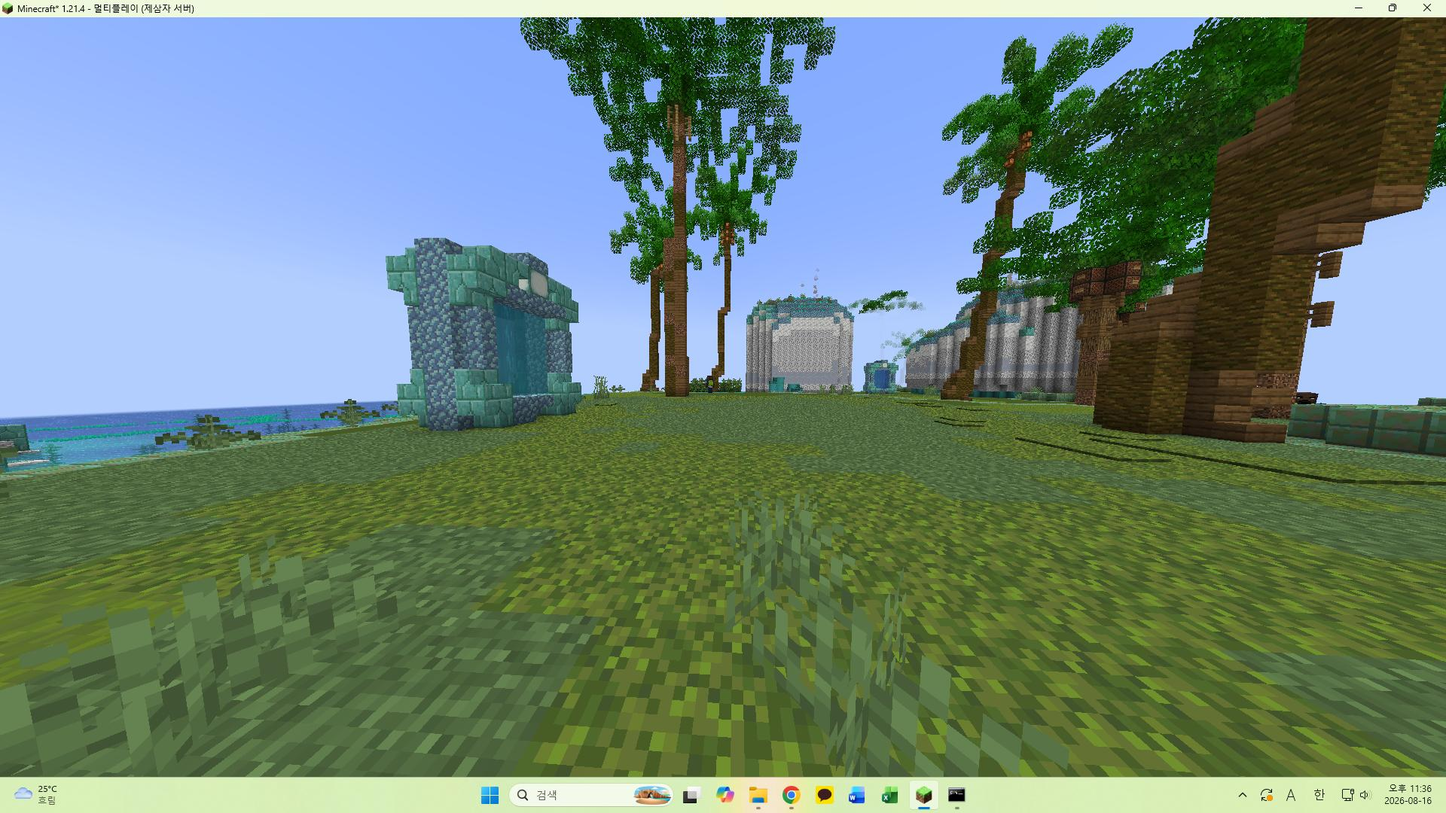Guardian: (705, 376, 715, 393)
